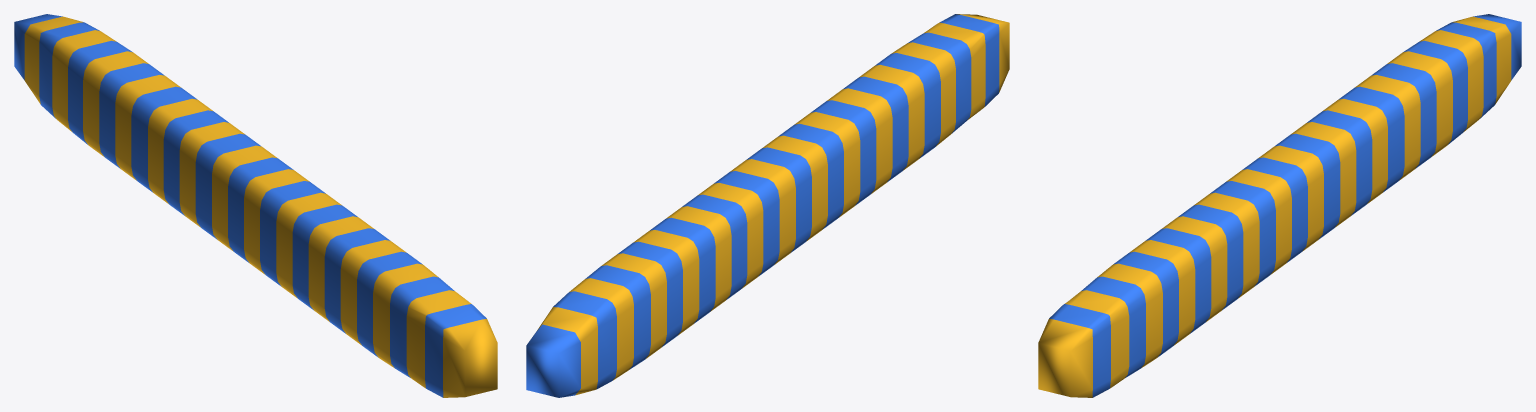
File: whacker.glb
3 views of the same model, side by side, from view 1: azimuth 30°, elevation 25°; view 2: azimuth 150°, elevation 25°; view 3: azimuth 330°, elevation 25° (orthographic).
Visible parts, largest first — view 1: wacker.001; view 2: wacker.001; view 3: wacker.001.
Part boxes in pixels (box(x1,y1,x2,y2)): wacker.001: box(14, 14, 497, 397); wacker.001: box(526, 14, 1009, 397); wacker.001: box(1038, 14, 1521, 397).
Size of what is drawn, in the model's own units: 1 by 1.5 by 14.
Materials: 1 (1 with a texture image).
